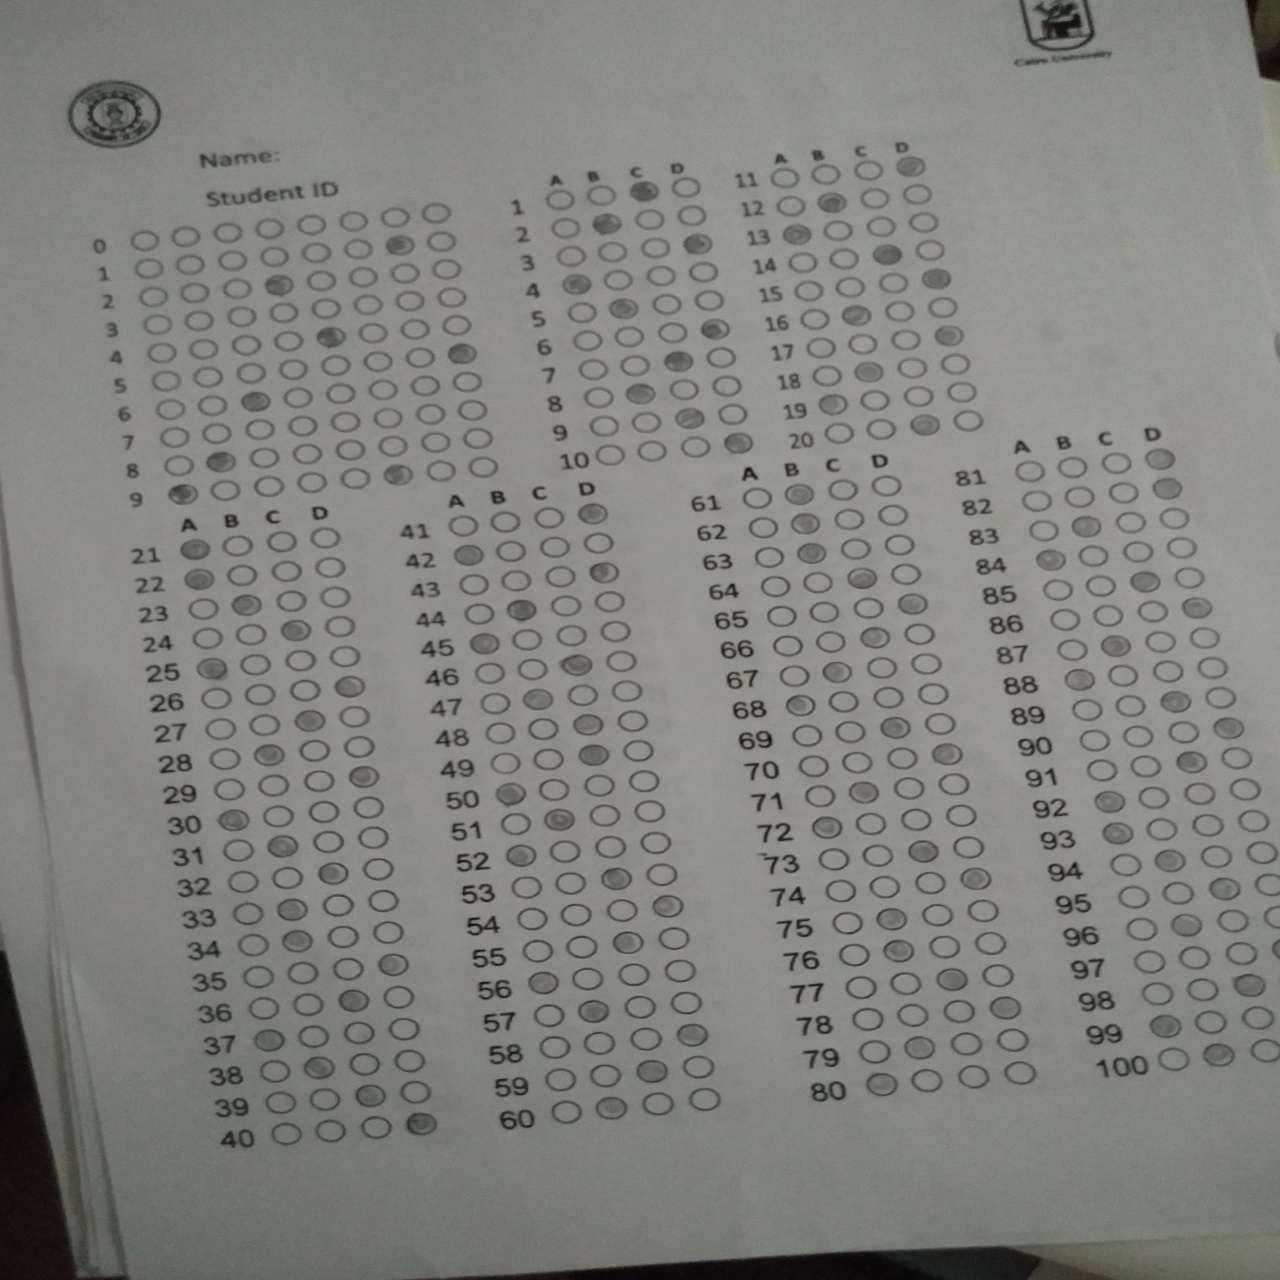not-c: (1114, 883, 1153, 912), (857, 1039, 896, 1068), (1141, 628, 1179, 658), (1149, 658, 1187, 687), (947, 1029, 985, 1058), (955, 1061, 993, 1090), (1177, 942, 1214, 972), (1132, 947, 1170, 976), (1143, 813, 1180, 843), (1083, 757, 1121, 787), (1068, 696, 1105, 726), (1185, 625, 1223, 654), (1076, 542, 1114, 571), (1061, 484, 1098, 513), (1054, 452, 1091, 482), (311, 1116, 349, 1144), (530, 1001, 568, 1029), (508, 873, 546, 901), (537, 533, 576, 561), (482, 720, 520, 748), (547, 593, 586, 621), (542, 564, 580, 592), (828, 908, 866, 937), (972, 930, 1010, 958), (840, 973, 879, 1001), (939, 998, 978, 1026), (993, 1026, 1032, 1054), (1000, 1058, 1039, 1087), (1155, 1047, 1193, 1075), (1184, 976, 1223, 1005), (1121, 915, 1159, 944), (1108, 851, 1146, 879), (1189, 811, 1227, 839), (1218, 745, 1257, 774), (1133, 599, 1172, 627), (1010, 458, 1049, 486), (529, 504, 568, 531), (568, 328, 608, 355), (978, 964, 1017, 990), (1040, 577, 1080, 604), (908, 1067, 945, 1096), (1141, 980, 1177, 1009), (1160, 879, 1197, 908), (1194, 655, 1231, 685), (1121, 537, 1157, 566), (199, 685, 237, 713), (284, 959, 321, 987), (293, 1023, 331, 1051), (537, 1035, 574, 1063), (519, 937, 557, 965), (488, 749, 525, 777), (614, 707, 652, 735), (602, 647, 640, 675), (592, 588, 629, 617), (592, 442, 629, 470), (714, 402, 751, 430), (667, 376, 704, 404), (1192, 1009, 1230, 1037), (1182, 779, 1219, 808), (1076, 726, 1114, 754), (1111, 692, 1149, 720), (1103, 662, 1141, 690), (1164, 536, 1201, 564), (1112, 508, 1150, 536), (1081, 572, 1118, 600), (1046, 606, 1083, 634), (224, 869, 263, 896), (244, 995, 282, 1022), (256, 1058, 294, 1085), (627, 1026, 666, 1053), (636, 829, 675, 856), (631, 798, 669, 825), (595, 617, 634, 644), (821, 877, 859, 904), (918, 903, 956, 930), (835, 941, 873, 968), (847, 1006, 886, 1033), (1135, 785, 1173, 812), (1163, 719, 1201, 745), (1201, 685, 1240, 712), (1169, 565, 1207, 592), (1088, 602, 1126, 629), (1020, 488, 1058, 515), (1104, 481, 1143, 508), (561, 934, 601, 960), (240, 681, 277, 709), (377, 983, 414, 1012), (307, 1085, 343, 1114), (512, 905, 549, 933), (493, 538, 530, 566), (553, 622, 590, 651), (553, 243, 590, 271), (896, 1002, 932, 1030), (1121, 723, 1157, 751), (237, 651, 274, 678), (282, 647, 320, 674), (325, 644, 362, 670), (202, 716, 239, 743), (205, 745, 243, 772), (350, 794, 388, 821), (261, 803, 299, 830), (354, 825, 392, 852), (320, 893, 358, 920), (234, 931, 272, 958), (290, 990, 327, 1017), (386, 1016, 423, 1043), (341, 1020, 379, 1047), (347, 1051, 384, 1078), (396, 1080, 434, 1107), (356, 1114, 394, 1141), (543, 1067, 580, 1094), (687, 1087, 724, 1114), (680, 1054, 717, 1081), (558, 903, 595, 930), (592, 835, 629, 862), (626, 768, 663, 795), (531, 745, 568, 772), (497, 567, 535, 594), (508, 626, 545, 653), (477, 690, 515, 717), (564, 681, 601, 708), (488, 509, 525, 536), (445, 512, 483, 539), (633, 440, 670, 467), (709, 373, 747, 400), (966, 898, 1003, 925), (1198, 843, 1235, 870), (1235, 808, 1273, 835), (1223, 940, 1260, 967), (1239, 1005, 1276, 1032), (1226, 776, 1264, 803), (1126, 753, 1164, 779), (1054, 636, 1091, 663), (1157, 506, 1194, 533), (1024, 517, 1062, 544), (1099, 450, 1137, 477), (299, 768, 338, 794), (638, 1091, 676, 1117), (545, 839, 584, 865), (461, 602, 499, 628), (579, 384, 618, 410), (246, 712, 282, 738), (254, 772, 291, 799), (297, 738, 333, 765), (342, 733, 379, 760), (336, 704, 373, 731), (307, 799, 343, 826), (267, 865, 304, 892), (329, 956, 366, 983), (241, 964, 278, 990), (268, 1121, 305, 1148), (547, 1099, 584, 1126), (587, 1062, 624, 1089), (669, 989, 706, 1016), (658, 925, 694, 952), (568, 965, 605, 992), (644, 862, 680, 888), (498, 810, 535, 837), (588, 802, 625, 829), (608, 678, 645, 704), (580, 529, 617, 556), (525, 716, 561, 743), (738, 485, 775, 512), (546, 215, 583, 241), (542, 188, 578, 215), (583, 183, 619, 210), (795, 753, 831, 779), (927, 934, 964, 961), (888, 971, 925, 998), (1214, 907, 1251, 934), (286, 678, 324, 703), (211, 776, 248, 802), (309, 830, 347, 856), (359, 856, 396, 881), (363, 888, 401, 914), (229, 901, 266, 927), (324, 924, 361, 949), (263, 1090, 300, 1116), (580, 1030, 618, 1056), (622, 995, 660, 1021), (661, 958, 699, 983), (605, 898, 642, 924), (551, 871, 588, 897), (580, 772, 618, 798), (536, 778, 573, 804), (515, 658, 552, 683), (585, 415, 622, 441), (627, 410, 665, 436), (576, 358, 613, 383), (565, 300, 602, 326), (250, 474, 285, 501), (668, 173, 703, 200), (674, 202, 709, 229), (611, 324, 646, 350), (899, 181, 934, 207), (785, 248, 821, 275), (945, 379, 980, 406), (844, 331, 879, 358), (1245, 839, 1280, 866), (222, 837, 258, 863), (370, 920, 407, 946), (392, 1048, 428, 1074), (615, 962, 652, 988), (621, 738, 658, 764), (471, 661, 508, 687), (457, 572, 493, 598), (678, 434, 714, 459), (638, 236, 674, 261), (600, 267, 636, 293), (790, 277, 826, 302), (776, 662, 812, 688), (788, 723, 824, 749), (859, 843, 896, 869), (1247, 1037, 1280, 1065), (428, 256, 462, 282), (195, 392, 229, 418), (161, 452, 196, 478), (264, 529, 299, 554), (223, 563, 258, 588), (642, 263, 678, 288), (907, 210, 942, 236), (850, 159, 885, 185), (887, 327, 922, 353), (938, 350, 973, 376), (822, 420, 857, 445), (825, 478, 860, 504), (831, 506, 866, 532), (744, 515, 779, 540), (836, 536, 871, 561), (888, 561, 924, 587), (851, 595, 886, 621), (903, 621, 938, 647), (871, 685, 906, 710), (832, 719, 867, 744), (884, 745, 919, 771), (898, 808, 933, 833), (949, 835, 985, 860), (866, 874, 901, 900), (767, 166, 803, 191), (863, 417, 899, 442), (796, 307, 832, 332), (757, 576, 794, 600), (191, 365, 225, 390), (141, 312, 175, 338), (372, 407, 406, 433), (308, 525, 342, 551), (185, 595, 219, 621), (703, 346, 737, 372), (835, 274, 869, 300), (896, 355, 930, 381), (949, 407, 983, 433), (869, 474, 903, 499), (803, 784, 837, 810), (855, 811, 888, 837), (438, 312, 474, 336), (340, 238, 375, 263), (302, 270, 338, 294), (229, 333, 264, 358), (233, 360, 268, 384), (177, 282, 212, 307), (199, 421, 234, 445), (241, 418, 277, 443), (414, 402, 449, 427), (268, 559, 304, 584), (233, 622, 268, 647), (632, 206, 667, 231), (594, 239, 629, 264), (686, 259, 721, 284), (649, 292, 685, 316), (653, 321, 688, 346), (877, 272, 912, 297), (914, 238, 949, 263), (859, 185, 894, 210), (865, 215, 900, 239), (821, 218, 856, 243), (828, 247, 863, 272), (774, 195, 809, 219), (806, 163, 842, 188), (926, 294, 961, 319), (881, 299, 917, 324), (901, 382, 937, 407), (804, 335, 839, 360), (881, 533, 917, 558), (799, 571, 835, 595), (763, 605, 798, 629), (812, 629, 847, 654), (770, 634, 805, 659), (864, 655, 899, 680), (825, 690, 860, 715), (839, 751, 874, 776), (893, 776, 928, 801), (937, 772, 972, 797), (942, 803, 978, 828), (815, 847, 850, 872), (912, 871, 947, 896), (403, 345, 436, 370), (367, 376, 400, 402), (376, 434, 409, 459), (191, 625, 224, 651), (168, 224, 202, 248), (210, 220, 244, 245), (338, 209, 372, 233), (377, 205, 411, 230), (418, 202, 452, 226), (424, 230, 458, 254), (435, 285, 469, 309), (397, 316, 431, 341), (350, 292, 384, 316), (408, 374, 442, 399), (324, 382, 358, 407), (320, 354, 354, 379), (275, 358, 309, 382), (257, 245, 291, 270), (215, 248, 248, 273), (219, 277, 253, 301), (181, 309, 215, 334), (132, 258, 166, 282), (137, 285, 171, 309), (144, 341, 178, 366), (148, 369, 182, 394), (247, 445, 281, 470), (286, 414, 320, 438), (290, 442, 324, 467), (455, 399, 489, 423), (418, 429, 452, 454), (424, 458, 458, 483), (467, 455, 501, 479), (220, 535, 254, 559), (318, 585, 352, 610), (693, 288, 727, 313), (617, 353, 651, 377), (858, 388, 892, 413), (811, 365, 845, 389), (874, 503, 908, 527), (753, 545, 787, 570), (806, 600, 840, 625), (908, 651, 942, 675), (915, 681, 949, 706), (922, 712, 956, 736), (125, 229, 161, 252), (294, 213, 329, 237), (299, 241, 334, 265), (309, 297, 342, 321), (225, 305, 258, 329), (188, 338, 220, 362), (282, 386, 315, 410), (461, 427, 493, 451), (339, 467, 372, 491), (313, 554, 346, 579), (275, 588, 308, 613), (254, 218, 288, 241), (388, 261, 422, 285), (360, 350, 394, 374), (271, 329, 305, 353), (267, 301, 301, 325), (173, 252, 207, 275), (154, 399, 188, 422), (157, 425, 191, 449), (327, 409, 361, 433), (334, 438, 368, 462), (297, 470, 331, 493), (207, 479, 241, 503), (324, 615, 358, 639), (1252, 870, 1280, 898), (394, 290, 427, 313), (346, 266, 379, 290), (356, 321, 389, 345), (450, 370, 483, 394), (1261, 903, 1280, 933)
taken-c: (248, 741, 287, 769), (604, 295, 642, 324), (202, 449, 240, 477), (259, 272, 298, 300), (862, 1071, 901, 1098), (1058, 667, 1098, 694), (265, 833, 302, 862), (216, 806, 253, 835), (193, 655, 231, 683), (178, 565, 216, 593), (176, 536, 213, 564), (881, 937, 919, 965), (1148, 1013, 1185, 1041), (1199, 1041, 1237, 1069), (1091, 788, 1129, 816), (1208, 714, 1246, 742), (1139, 445, 1177, 474), (659, 349, 696, 377), (443, 341, 481, 369), (523, 969, 561, 996), (277, 928, 315, 955), (275, 617, 314, 644), (806, 813, 845, 840), (986, 994, 1024, 1021), (1231, 972, 1269, 999), (1172, 750, 1211, 777), (1096, 631, 1135, 658), (1126, 568, 1165, 595), (1032, 549, 1070, 576), (1067, 515, 1105, 542), (1148, 476, 1186, 503), (849, 358, 887, 384), (930, 324, 968, 350), (869, 241, 907, 268), (813, 189, 852, 216), (680, 230, 719, 257), (670, 404, 709, 431), (379, 461, 417, 488), (379, 233, 417, 260), (301, 1054, 338, 1082), (873, 905, 910, 933), (900, 1034, 937, 1062), (1153, 847, 1190, 876), (719, 430, 755, 458), (574, 998, 612, 1024), (353, 1083, 390, 1110), (272, 897, 309, 924), (904, 837, 941, 864), (956, 865, 994, 892), (933, 967, 971, 994), (1169, 912, 1206, 939), (1099, 821, 1137, 847), (1157, 689, 1194, 716), (1178, 594, 1216, 621), (906, 411, 944, 438), (815, 392, 852, 418), (839, 304, 877, 331), (918, 266, 955, 293), (781, 222, 818, 248), (892, 154, 930, 181), (625, 178, 662, 205), (588, 210, 626, 237), (558, 270, 595, 297), (697, 316, 735, 343), (622, 381, 660, 408), (163, 481, 200, 508), (237, 389, 274, 416), (312, 324, 349, 350), (291, 709, 329, 735), (331, 674, 369, 700), (610, 930, 646, 956), (782, 692, 818, 719), (1207, 876, 1244, 903), (597, 866, 634, 892), (648, 893, 686, 919), (674, 1022, 712, 1048), (592, 1095, 629, 1121), (250, 1028, 287, 1054), (314, 862, 352, 887), (346, 764, 383, 790), (557, 653, 595, 678), (542, 808, 578, 833), (503, 843, 539, 869), (634, 1058, 670, 1084), (403, 1111, 440, 1137), (335, 987, 372, 1013), (375, 952, 411, 978), (229, 593, 265, 619), (781, 482, 817, 508), (844, 566, 880, 592), (893, 591, 930, 617), (504, 598, 542, 622), (570, 712, 607, 736), (856, 626, 893, 651), (493, 781, 529, 806), (846, 779, 881, 805), (450, 543, 486, 567), (467, 631, 503, 655), (520, 687, 557, 712), (794, 542, 830, 566), (877, 715, 913, 740), (928, 742, 965, 767), (585, 561, 622, 585), (576, 502, 611, 526), (576, 744, 612, 768), (788, 512, 824, 536), (819, 661, 855, 685)
